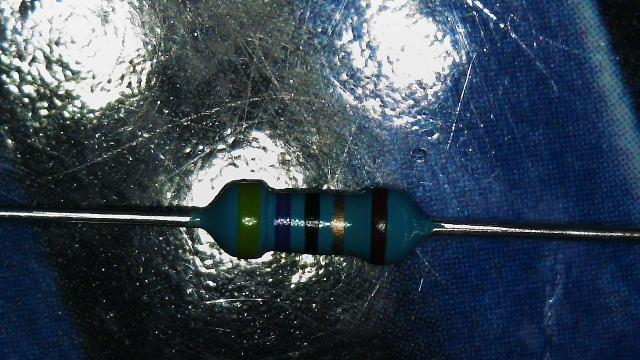black: (304, 190, 320, 253)
brown: (369, 188, 389, 264)
gold: (332, 192, 346, 254)
resistor: (192, 152, 433, 277)
violet: (274, 190, 292, 250)
yellow: (236, 180, 261, 257)
